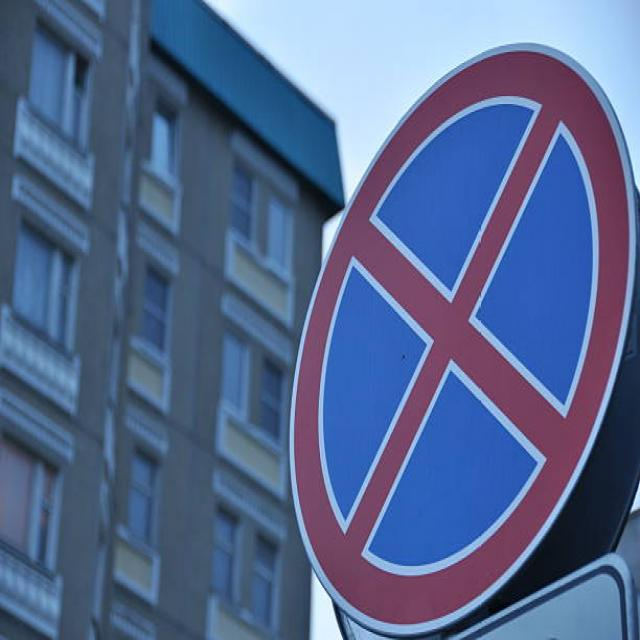no_parking: (272, 51, 638, 634)
